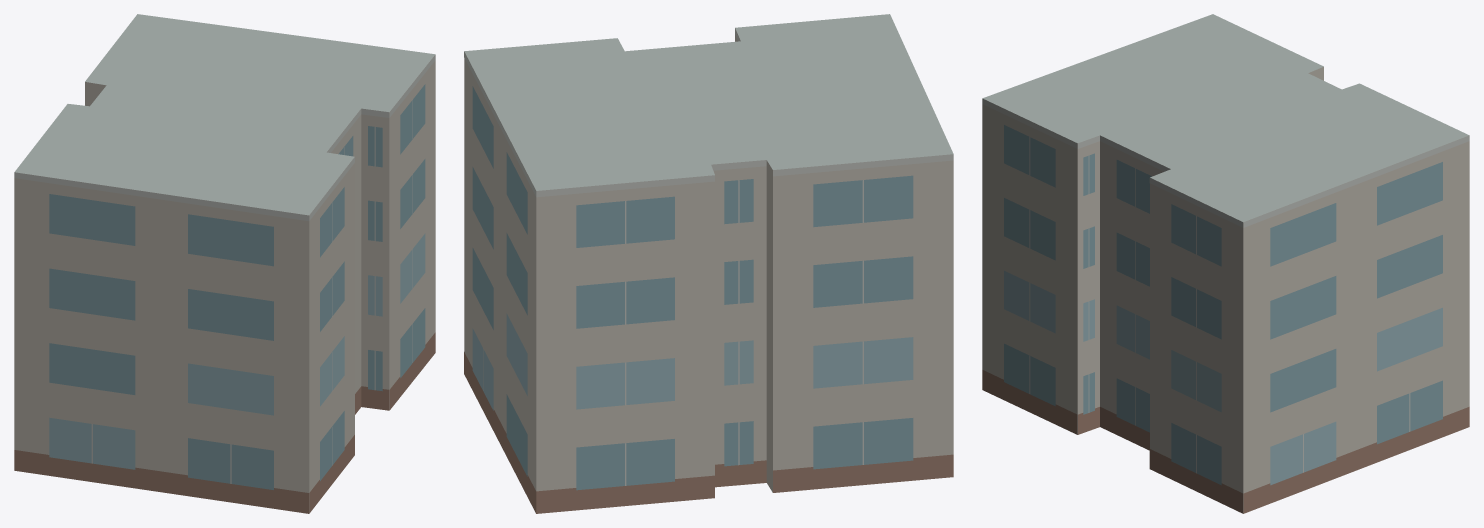
Rendered from survey-upis-32526317.glb.
The picture shows the model from 3 angles, left to right: view 1: azimuth 30°, elevation 25°; view 2: azimuth 150°, elevation 25°; view 3: azimuth 270°, elevation 25°; orthographic projection. The views are drawn at different scales.
Parts seen in each view (by area): view 1: survey-upis-32526317.tmp; view 2: survey-upis-32526317.tmp; view 3: survey-upis-32526317.tmp.
Part boxes in pixels (box(x1,y1,x2,y2)): survey-upis-32526317.tmp: box(14, 14, 435, 513); survey-upis-32526317.tmp: box(464, 14, 953, 513); survey-upis-32526317.tmp: box(982, 14, 1469, 513).
Size of the model in its own units: 19.16 by 12.5 by 18.94.
